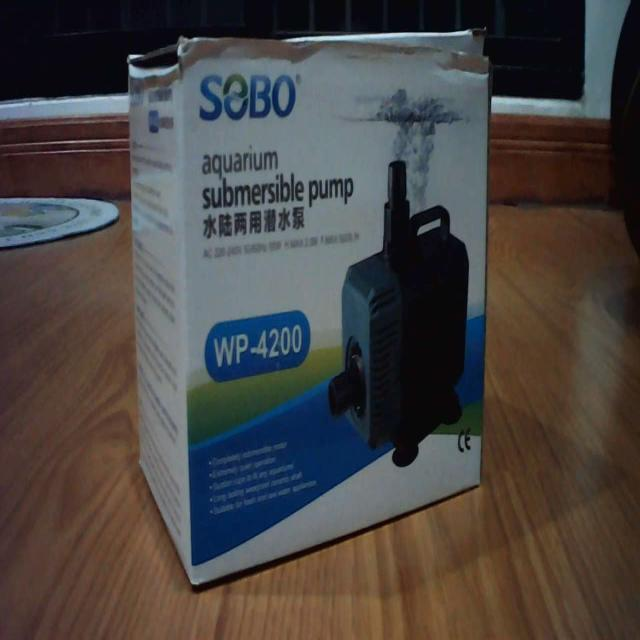SOBO_WP_4200: (124, 12, 496, 594)
